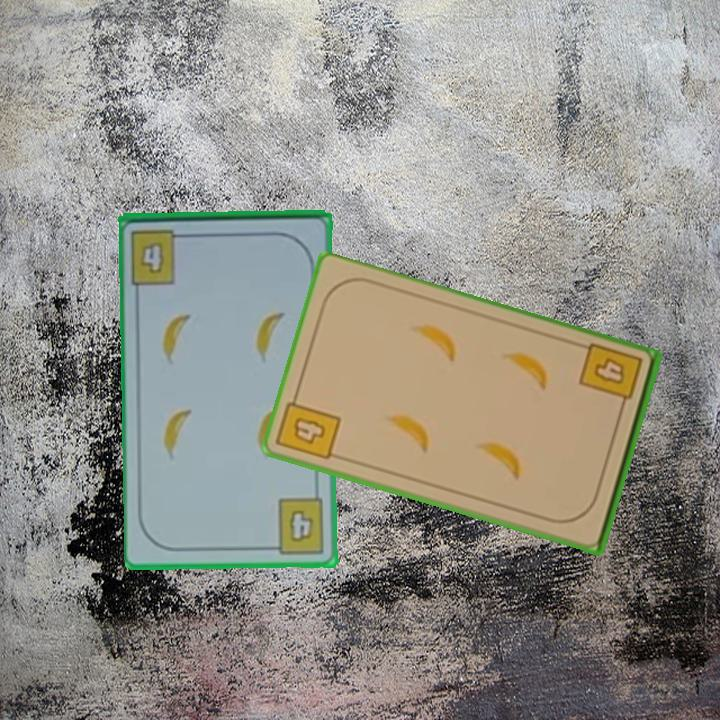4b: (576, 340, 646, 416), (274, 389, 344, 464), (127, 225, 193, 287), (265, 495, 327, 556)
